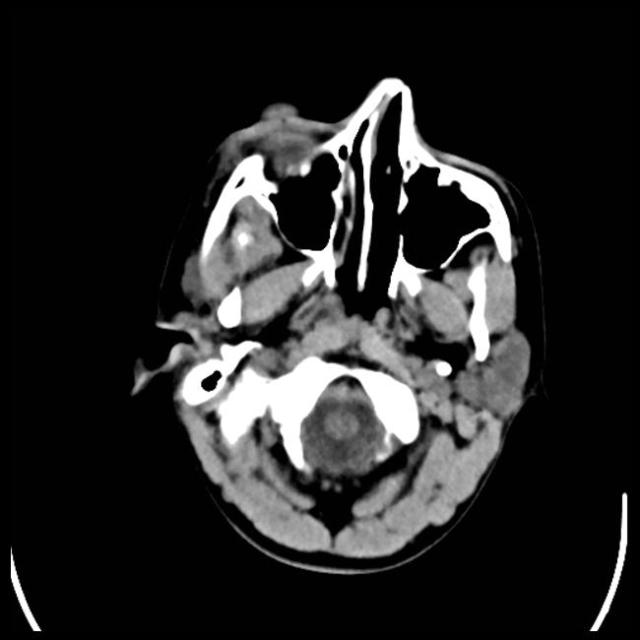lesion: (129, 73, 548, 573)
